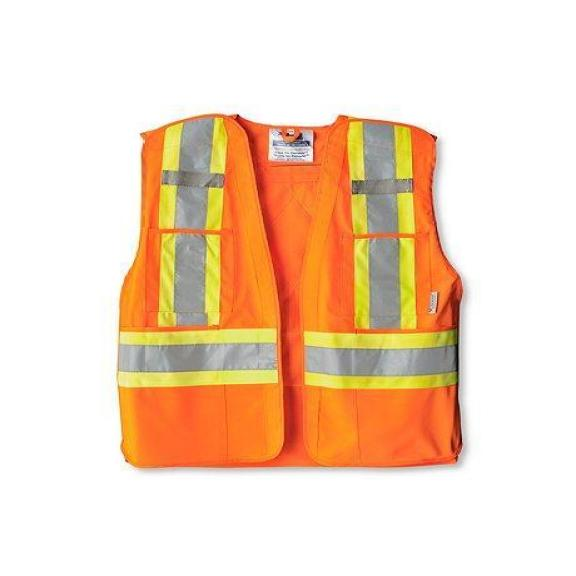safety_vest: (118, 108, 466, 470)
